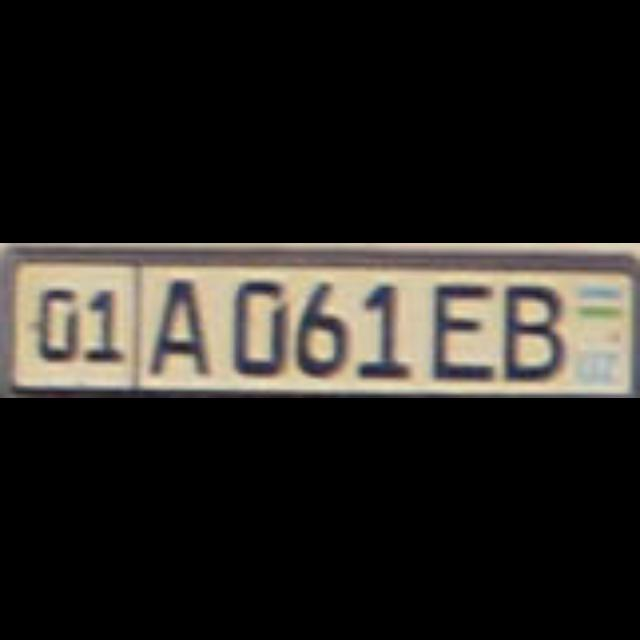0: (226, 274, 282, 370), (36, 282, 72, 358)
1: (358, 278, 402, 372), (83, 286, 115, 358)
6: (294, 278, 342, 372)
A: (147, 274, 207, 370)
B: (501, 278, 557, 377)
E: (429, 278, 485, 377)
